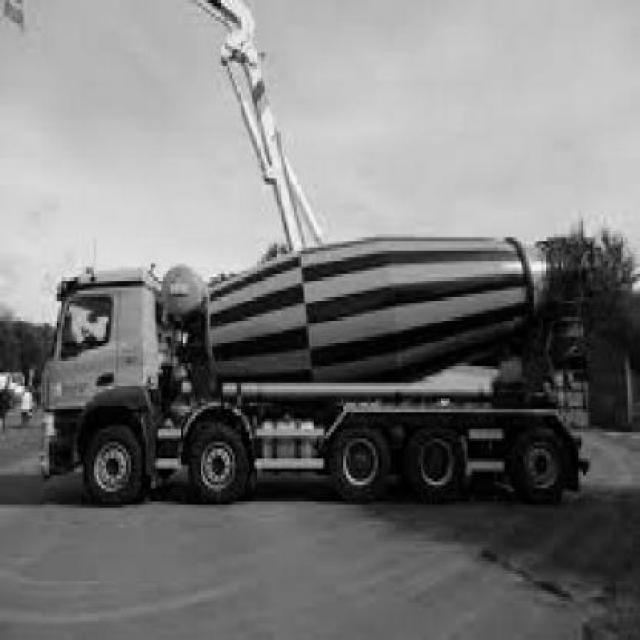Concrete Mixer: (43, 236, 592, 508)
